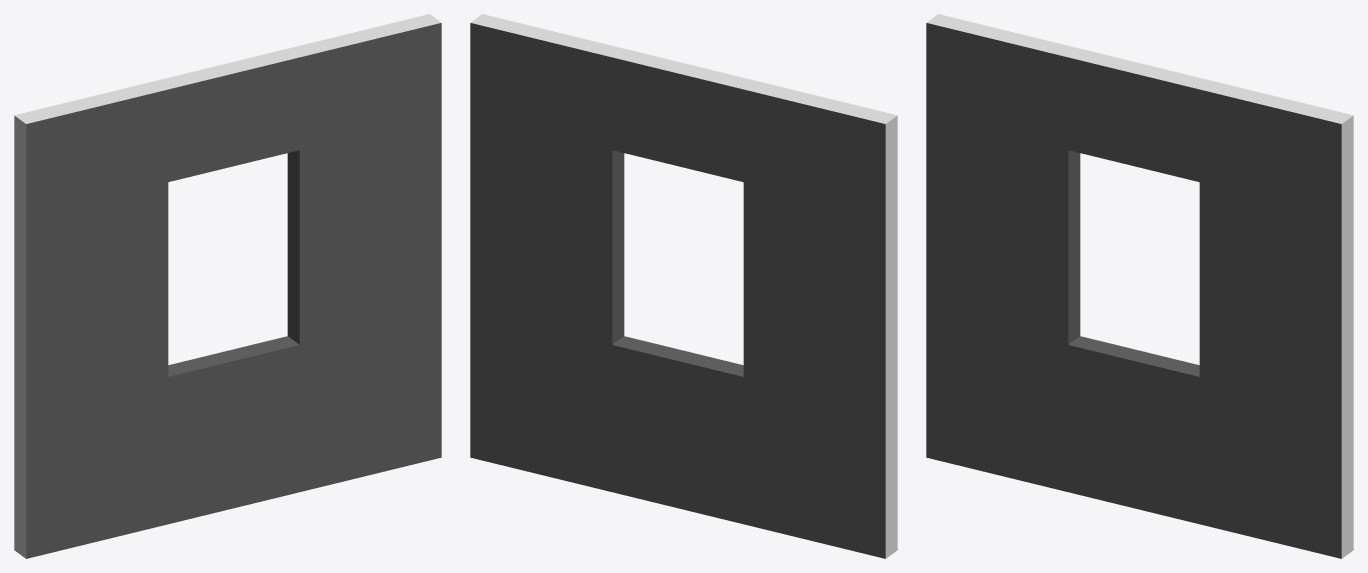
Rendered from wall_056.fbx.
3 views of the same model, side by side, from view 1: azimuth 30°, elevation 25°; view 2: azimuth 150°, elevation 25°; view 3: azimuth 330°, elevation 25° (orthographic).
Visible parts, largest first — view 1: wall_056; view 2: wall_056; view 3: wall_056.
Part boxes in pixels (x1,y1,x2,y2): wall_056: [14, 14, 441, 558]; wall_056: [470, 14, 897, 558]; wall_056: [926, 14, 1353, 558].
Bounding box in the file's own units: 400 × 20 × 400.
